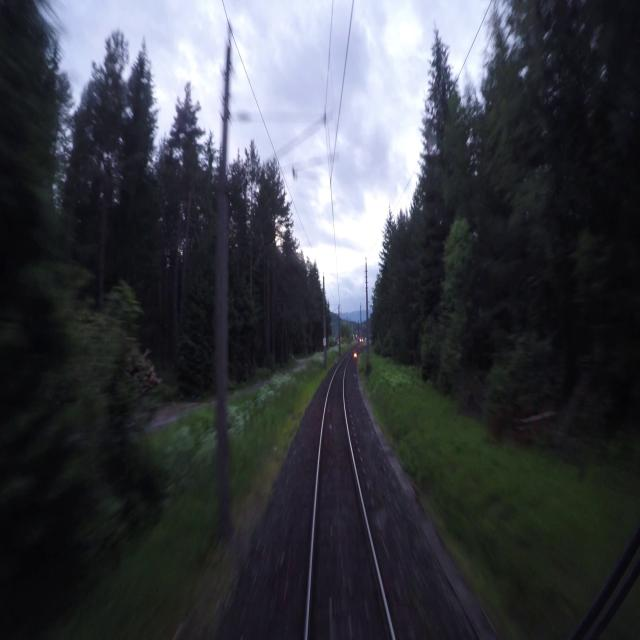rail-track: (309, 359, 391, 639)
